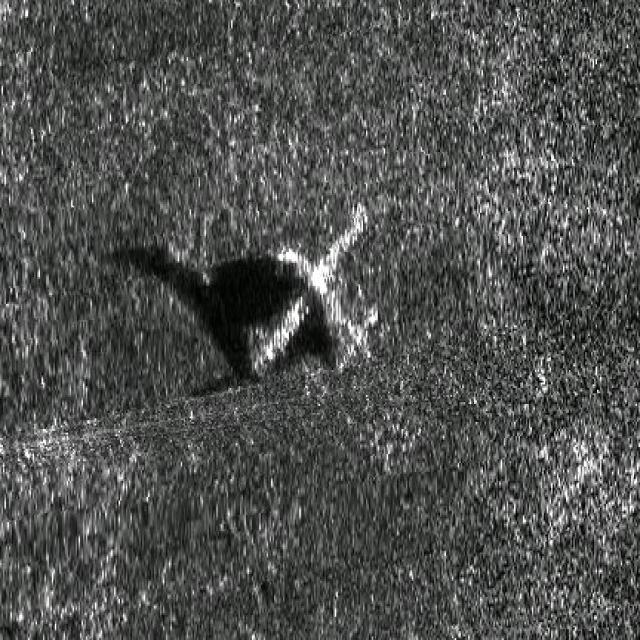plane: (222, 196, 400, 390)
